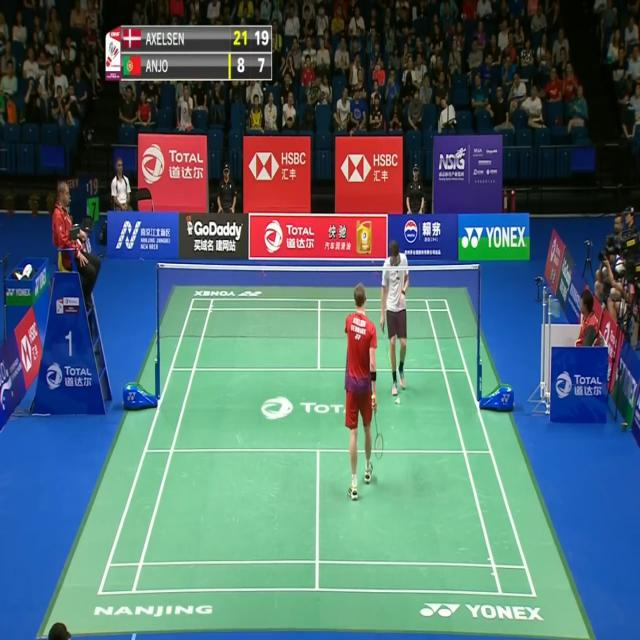Player1: (338, 279, 386, 508)
Player2: (378, 235, 414, 397)
